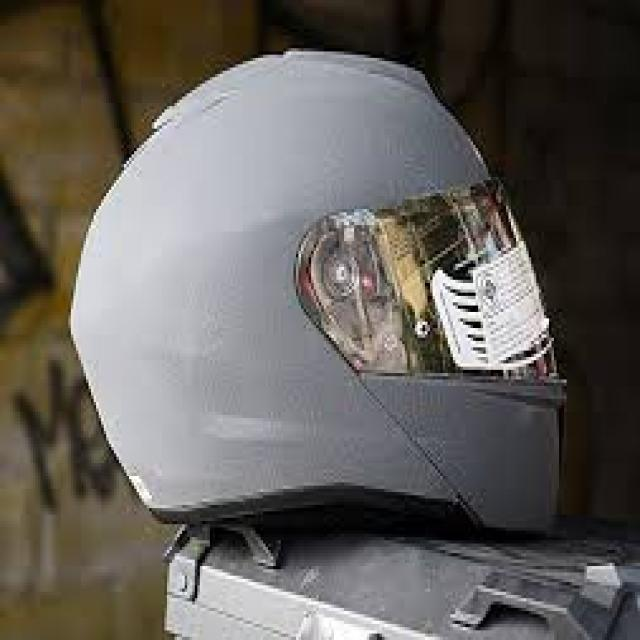Helmet: (49, 33, 599, 561)
